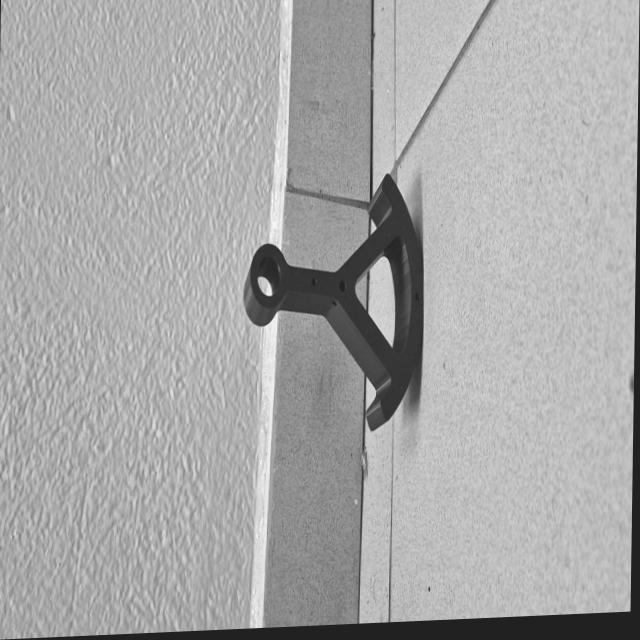haptic: (238, 169, 426, 440)
